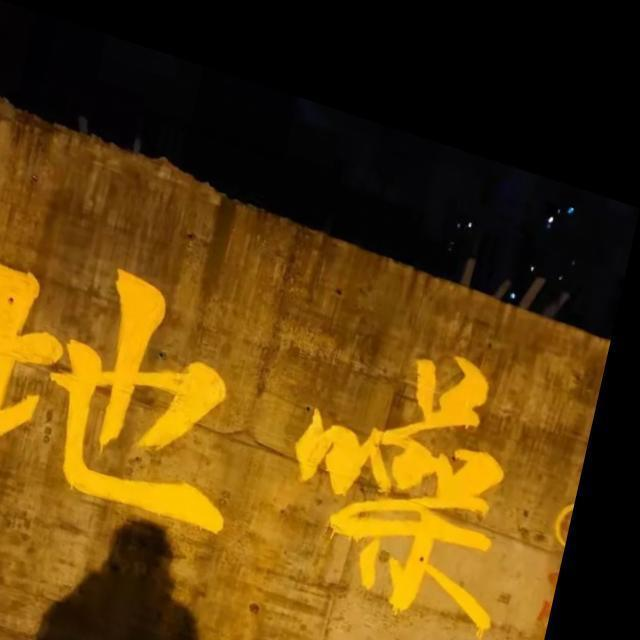nonspitting: (0, 260, 232, 533), (300, 359, 502, 632)
